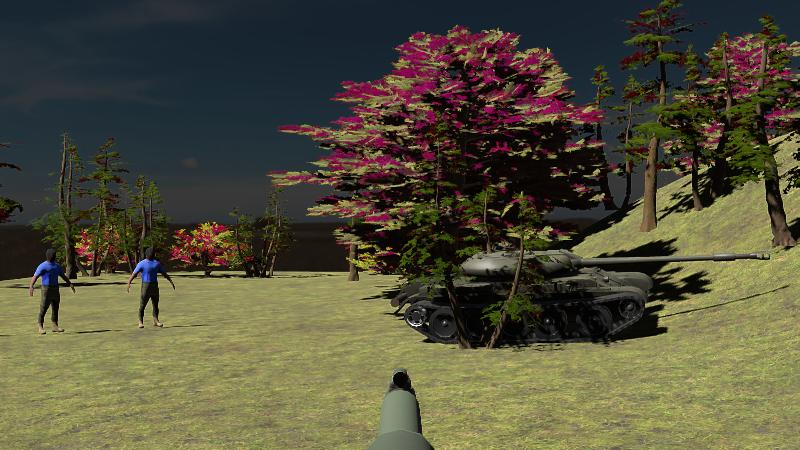Human: (30, 248, 75, 335), (127, 247, 175, 328)
Tank: (393, 246, 767, 347)
